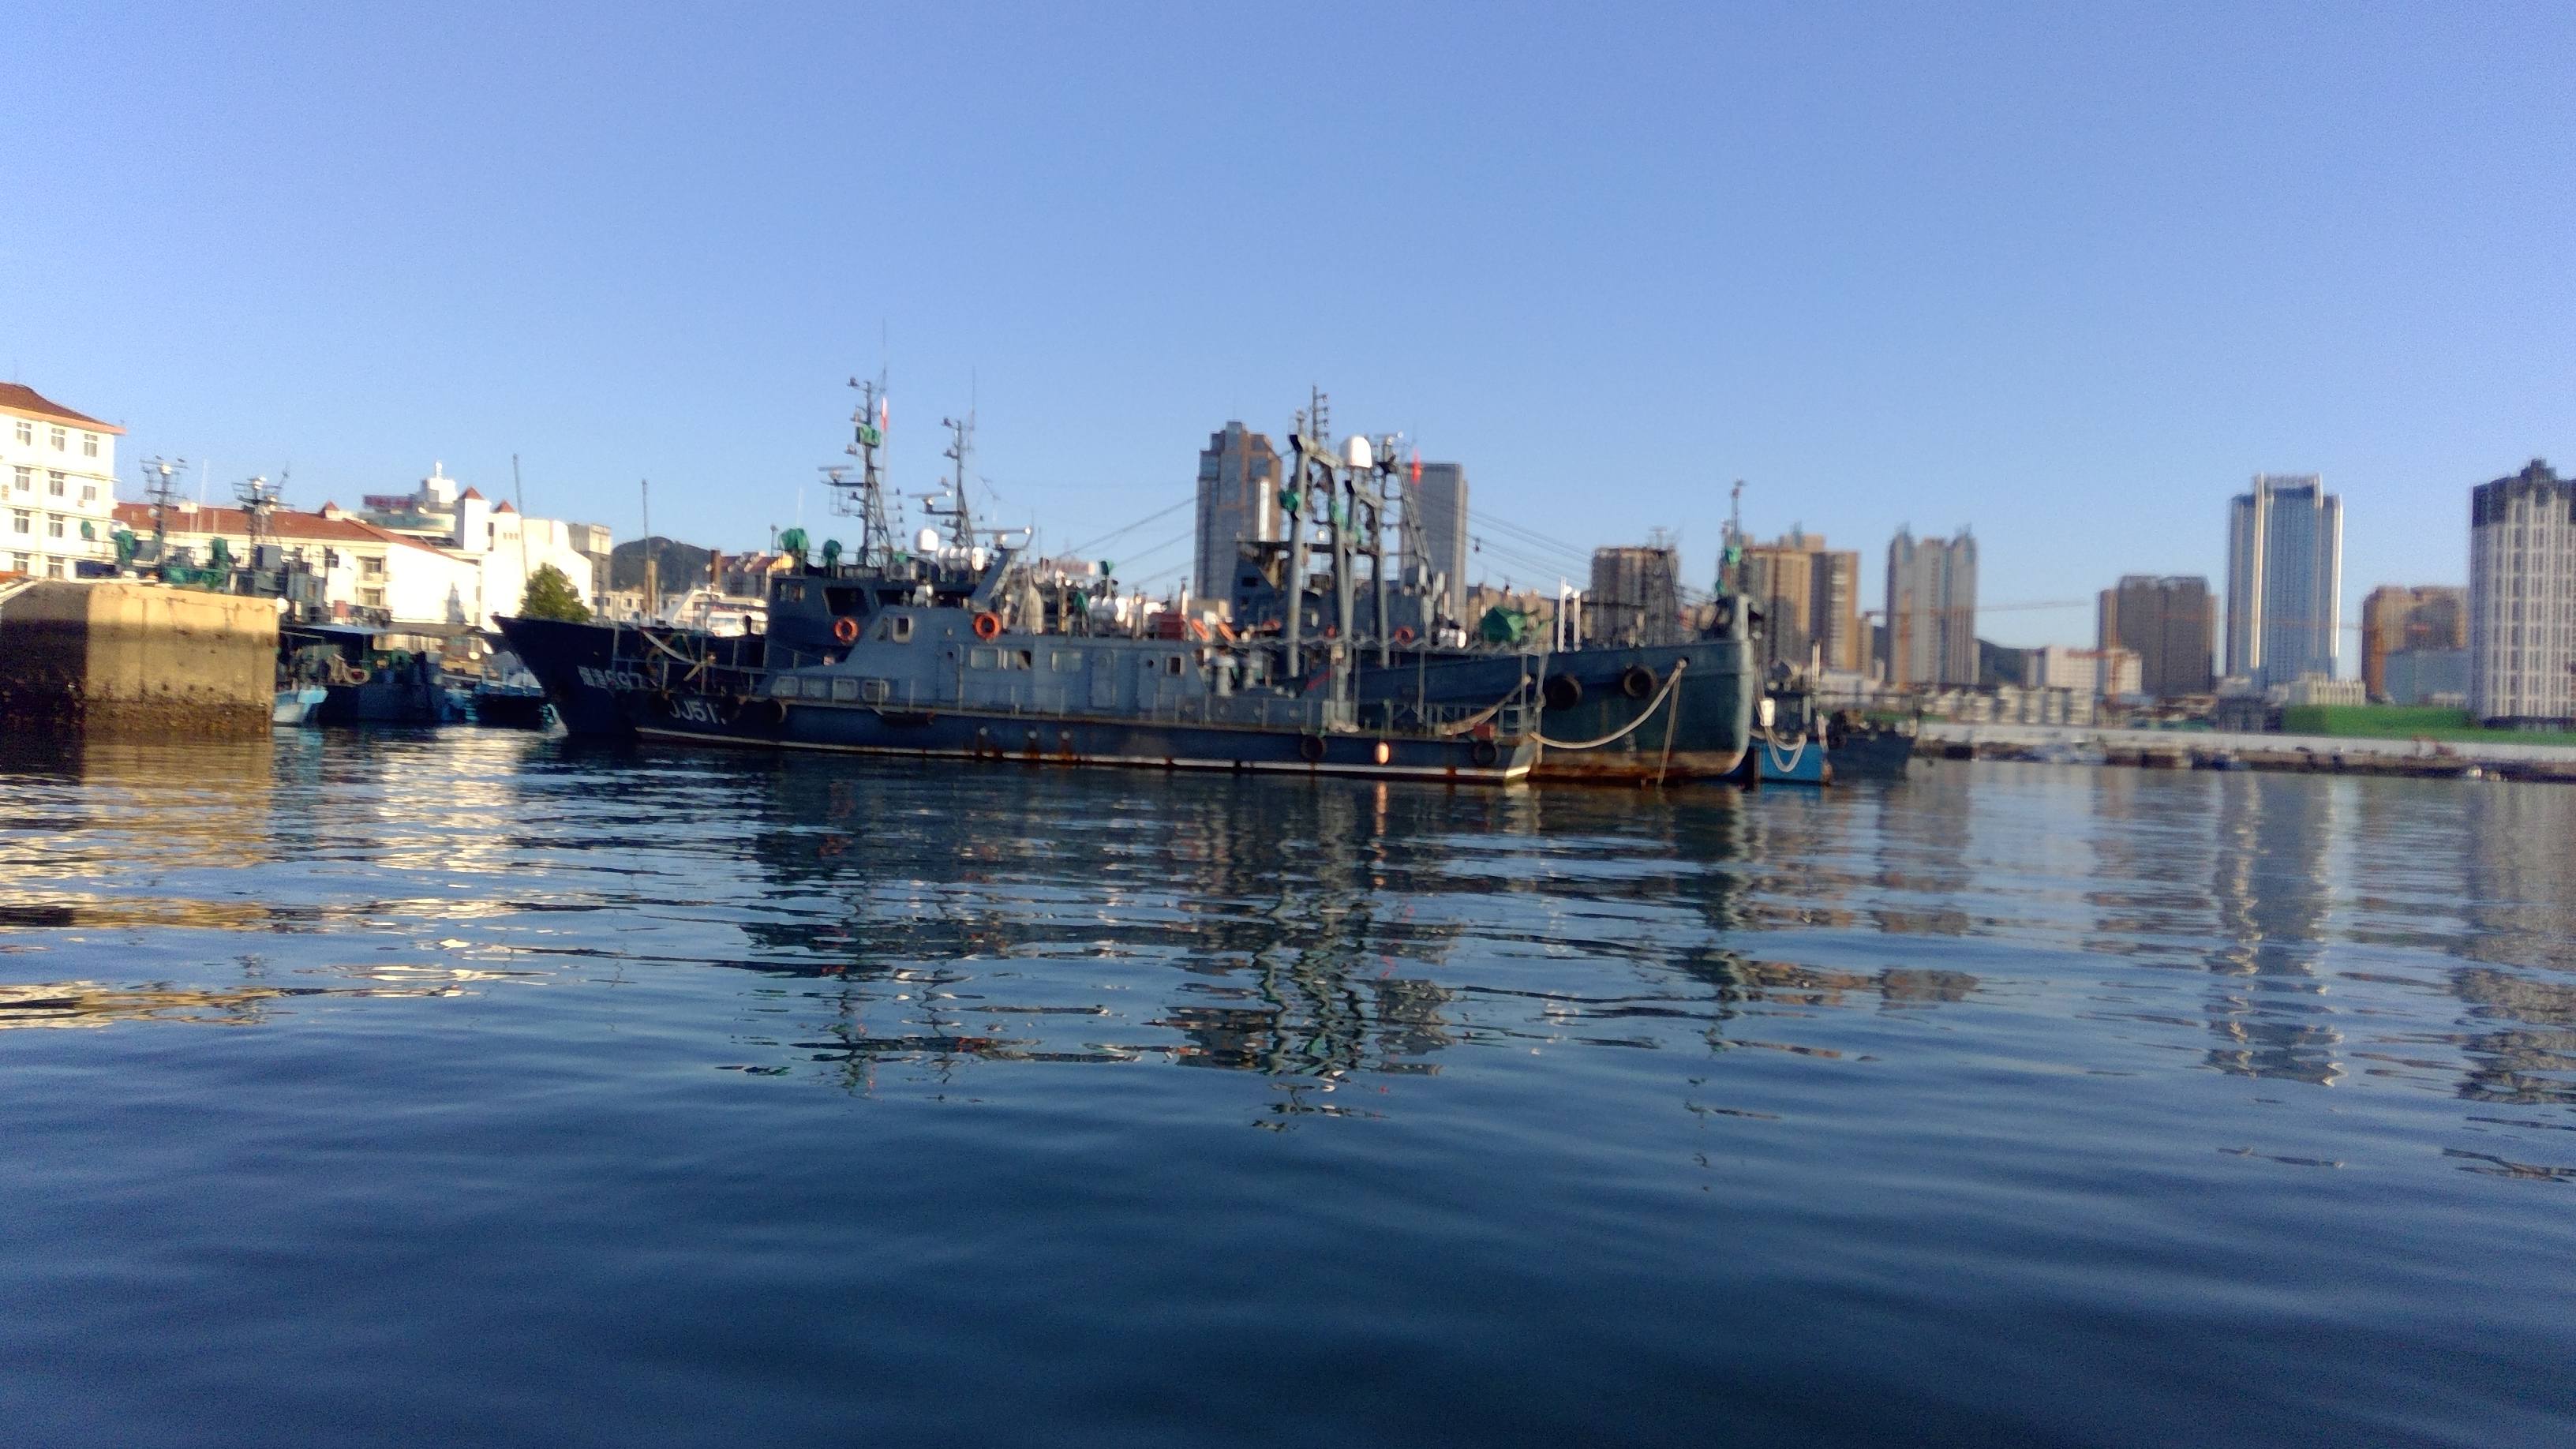ship: (472, 418, 1530, 817), (1205, 593, 1767, 809)
